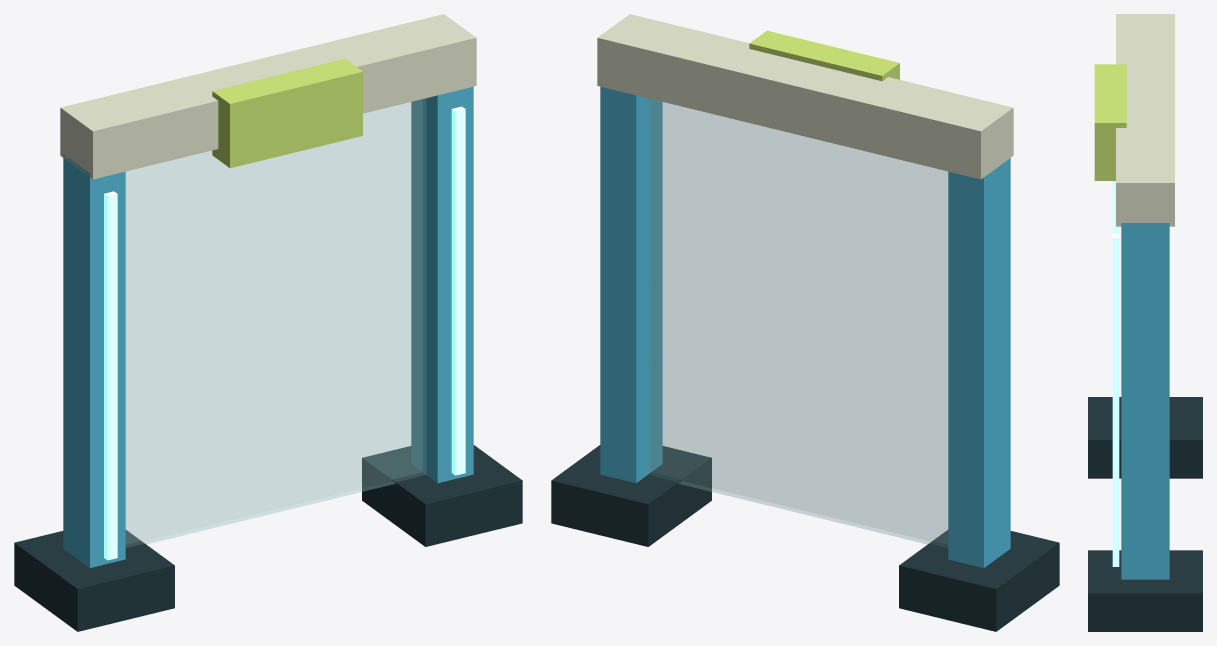
File: energy-gate.glb
The picture shows the model from 3 angles, left to right: view 1: azimuth 30°, elevation 25°; view 2: azimuth 150°, elevation 25°; view 3: azimuth 270°, elevation 25°; orthographic projection. The views are drawn at different scales.
Parts seen in each view (by area): view 1: field, top, post--1, post-1, badge, foot--1, foot-1, light-1, light--1; view 2: field, top, post--1, post-1, foot--1, foot-1, badge; view 3: post-1, top, foot-1, foot--1, badge, light-1, light--1.
Boxes of the visible parts, bbox=[...] form: field: bbox=[126, 99, 425, 547]; top: bbox=[60, 14, 476, 179]; post--1: bbox=[63, 154, 125, 567]; post-1: bbox=[411, 86, 473, 482]; badge: bbox=[212, 58, 362, 168]; foot--1: bbox=[14, 530, 174, 631]; foot-1: bbox=[362, 445, 522, 546]; light-1: bbox=[451, 106, 465, 475]; light--1: bbox=[104, 191, 117, 560]; field: bbox=[648, 99, 947, 547]; top: bbox=[597, 14, 1013, 179]; post--1: bbox=[948, 158, 1010, 567]; post-1: bbox=[600, 86, 662, 482]; foot--1: bbox=[899, 530, 1059, 631]; foot-1: bbox=[551, 445, 711, 546]; badge: bbox=[749, 30, 899, 81]; post-1: bbox=[1121, 223, 1169, 579]; top: bbox=[1116, 14, 1174, 226]; foot-1: bbox=[1088, 550, 1202, 631]; foot--1: bbox=[1088, 397, 1202, 478]; badge: bbox=[1094, 64, 1126, 180]; light-1: bbox=[1112, 233, 1119, 566]; light--1: bbox=[1112, 181, 1119, 233].
Bounding box in the file's own units: 1.74 × 1.82 × 0.43.
